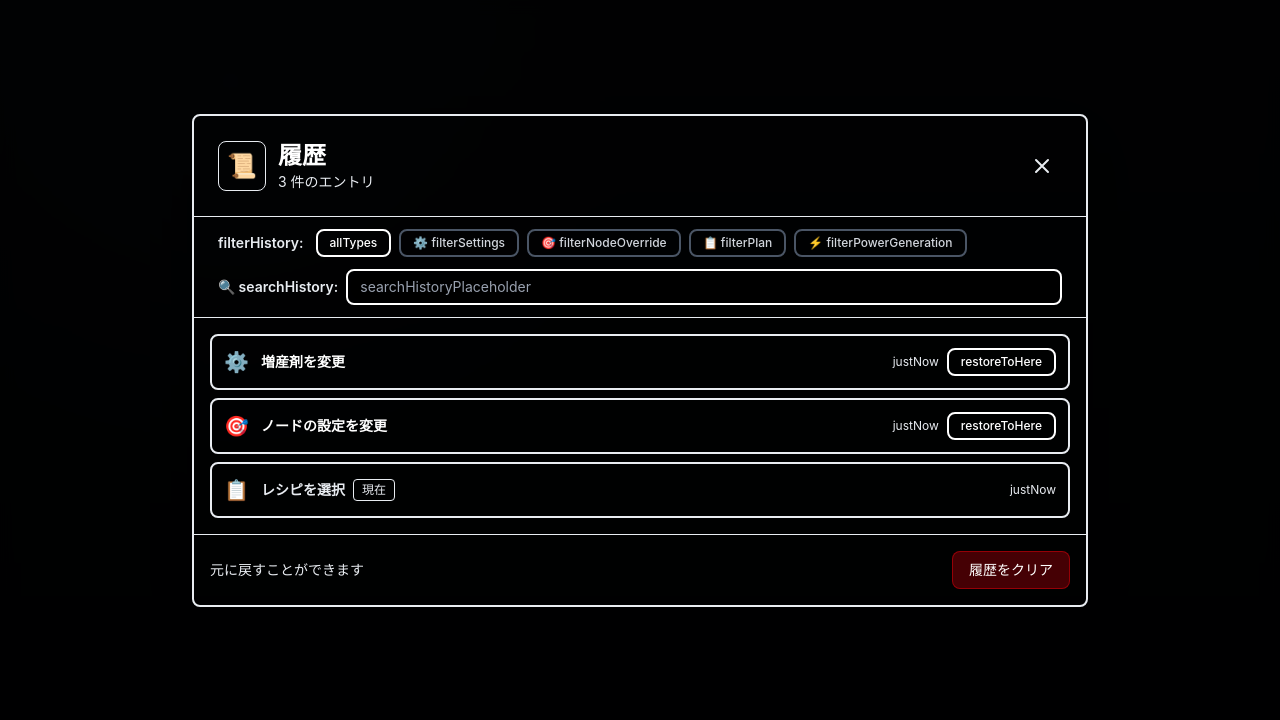
Scenario: HistoryDialog › Search Functionality › should show all entries when search is empty
This screenshot has width=1280, height=720.
Type "test" into the field with placeholder "searchHistoryPlaceholder" at (704, 286), box [346,268,1062,304]
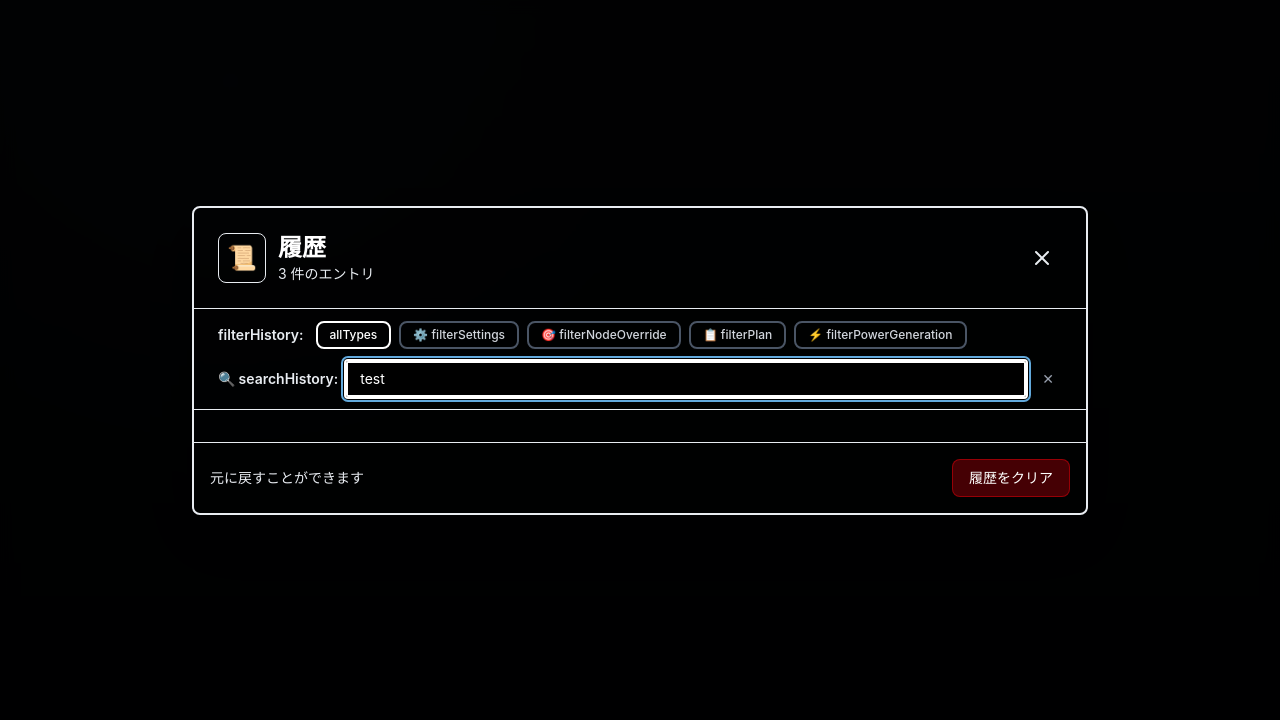
Clear the field with placeholder "searchHistoryPlaceholder" at (686, 378), box [346,360,1026,396]
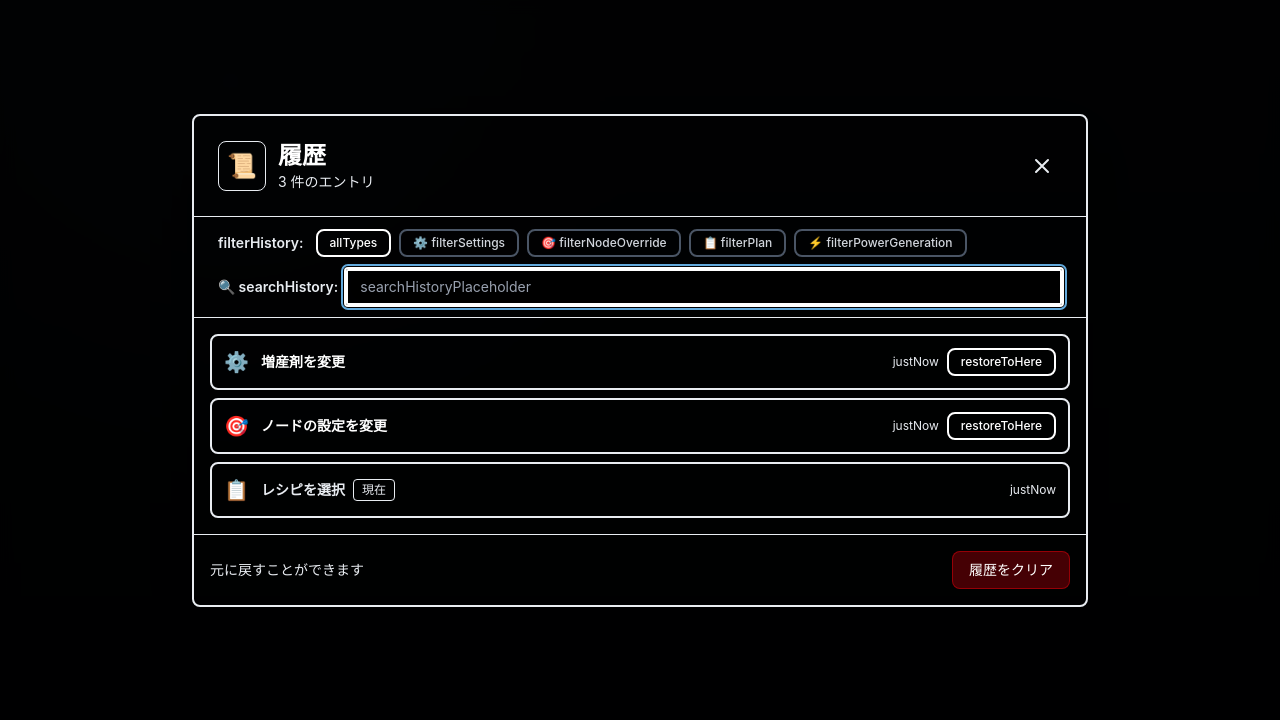
Check: the text "増産剤を変更" is shown, box [261,352,345,372]
Check: the text "ノードの設定を変更" is shown, box [261,416,387,436]
Check: the text "レシピを選択" is shown, box [261,480,345,500]
